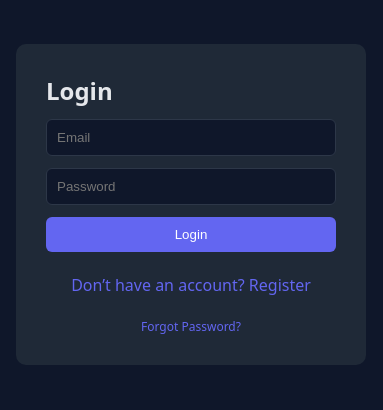
Scenario: Login Component › Error Handling › should display error message on login failure
Type "test@example.com" into the field with placeholder "Email" at (191, 137), box x1=46 y1=118 x2=336 y2=156
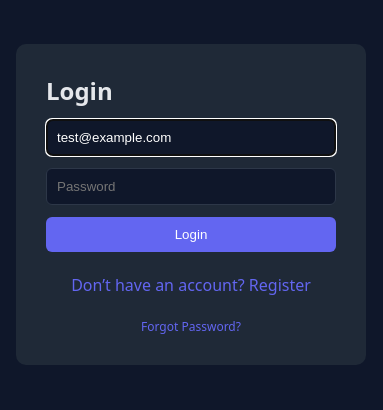
Type "wrongpassword" into the password field with placeholder "Password" at (191, 186), box x1=46 y1=168 x2=336 y2=204
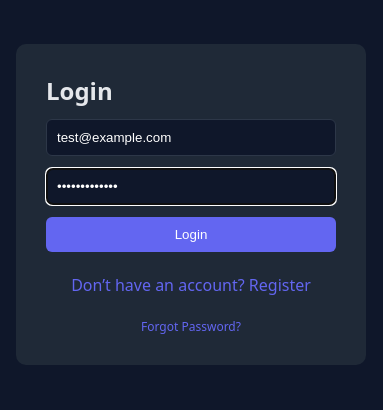
Click the button "Login" at (191, 234), box x1=46 y1=216 x2=336 y2=252
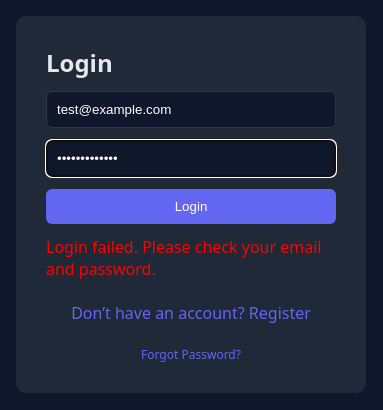
Check: the text "Login failed. Please check your email and password." is shown, box x1=46 y1=236 x2=336 y2=280
